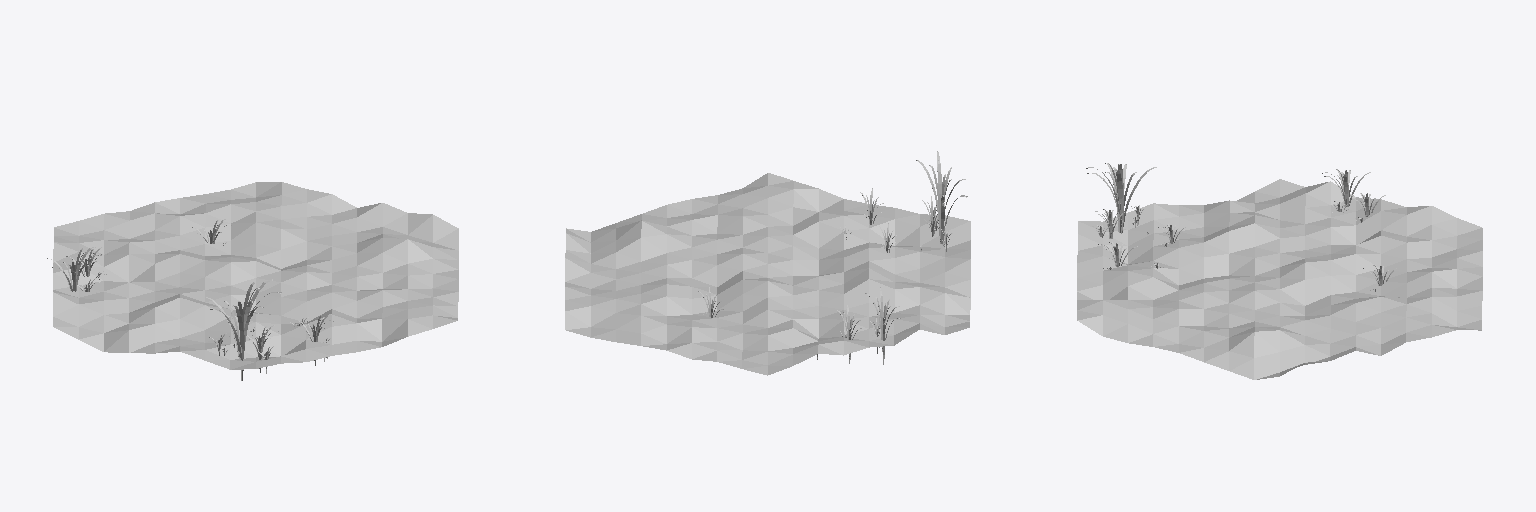
File: plaine1.obj
3 renders of one model, left to right at view 1: azimuth 30°, elevation 25°; view 2: azimuth 150°, elevation 25°; view 3: azimuth 270°, elevation 25°, orthographic.
Parts seen in each view (by area): view 1: Circle; view 2: Circle; view 3: Circle.
Part boxes in pixels (left/top/right/bottom): Circle: left=47, top=182, right=458, bottom=380; Circle: left=565, top=151, right=970, bottom=375; Circle: left=1077, top=163, right=1482, bottom=379.
Bounding box in the file's own units: 2 × 0.494 × 1.73.